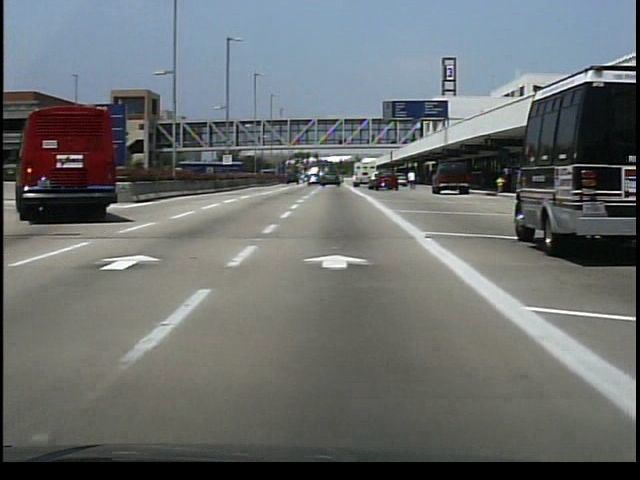person: (502, 165, 513, 198), (406, 169, 420, 191)
